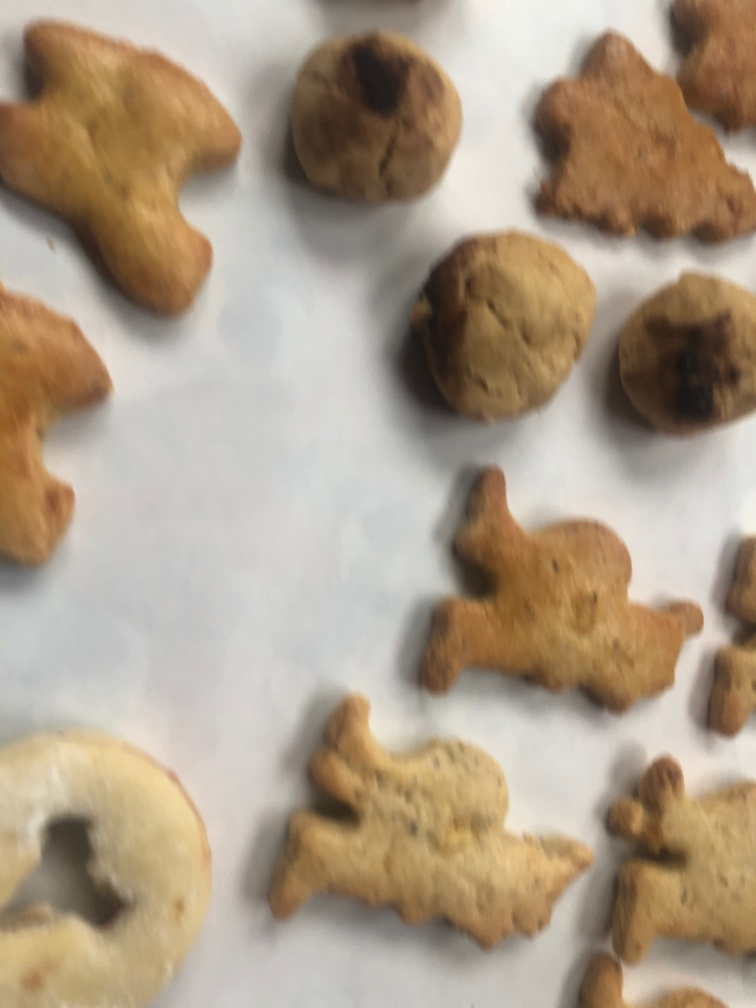christmas shortbread with jam: (3, 723, 211, 1008)
christmas tree: (521, 25, 756, 247)
lamb: (2, 8, 242, 329)
santa claus: (264, 687, 592, 959), (409, 451, 703, 727), (596, 741, 755, 977)
snowball: (395, 222, 605, 433), (275, 30, 464, 211), (599, 260, 755, 443)
